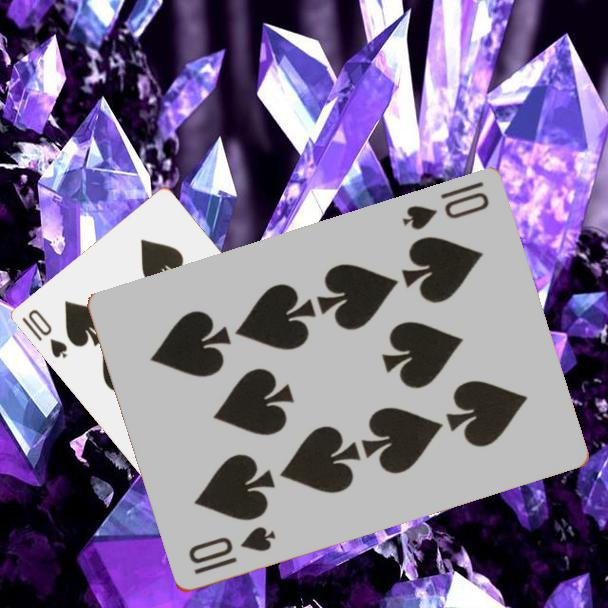s10: (398, 178, 492, 234), (184, 523, 279, 578), (19, 306, 71, 361)
